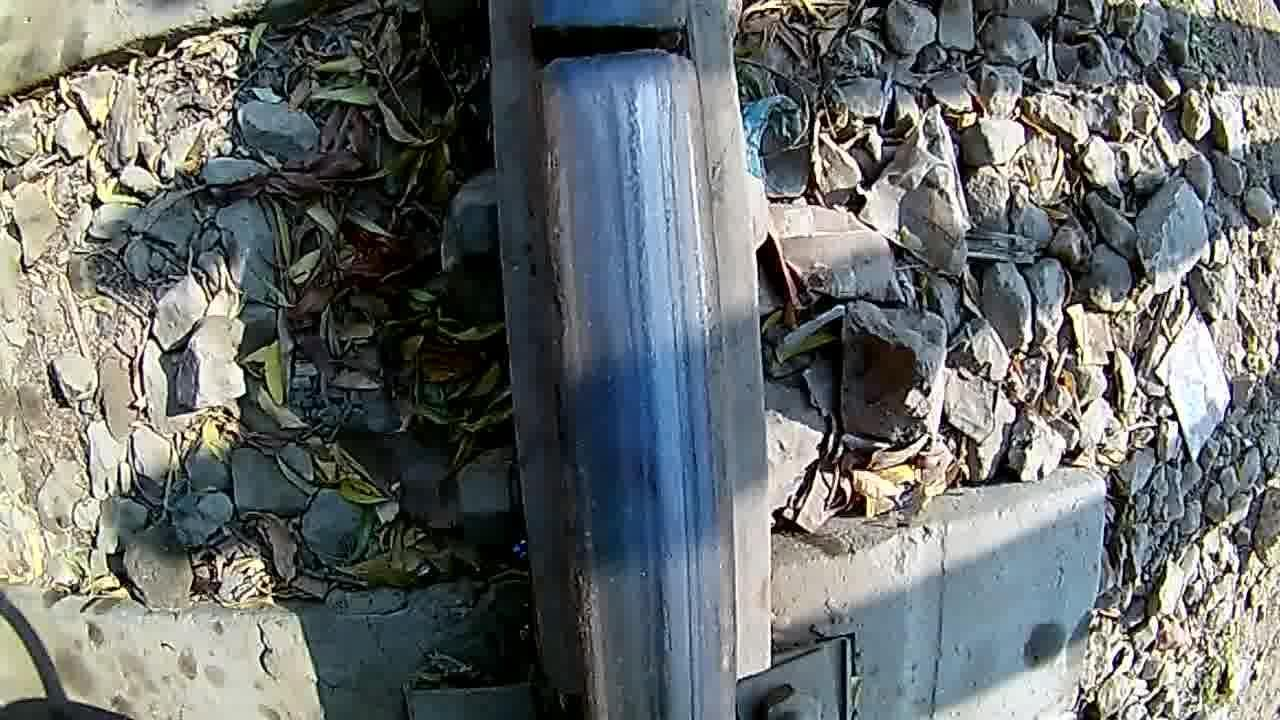crack: (485, 101, 746, 720), (495, 1, 717, 100)
